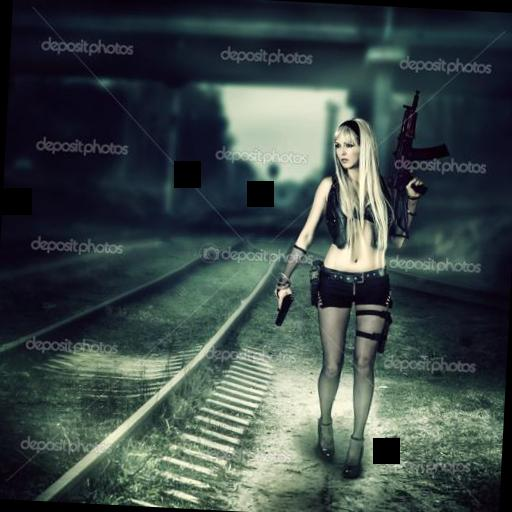Handgun: (263, 276, 301, 328)
